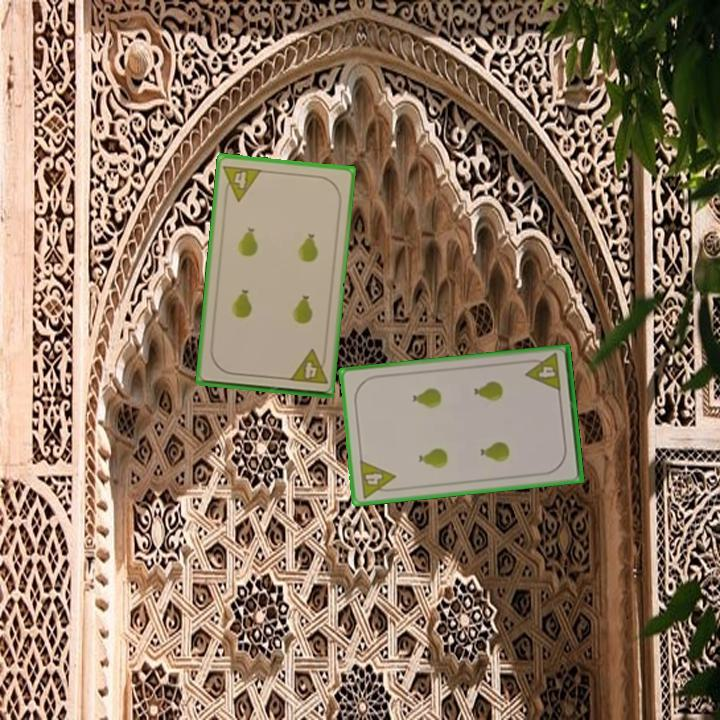4p: (356, 456, 399, 501), (220, 161, 264, 204), (521, 350, 564, 394), (286, 346, 330, 387)
